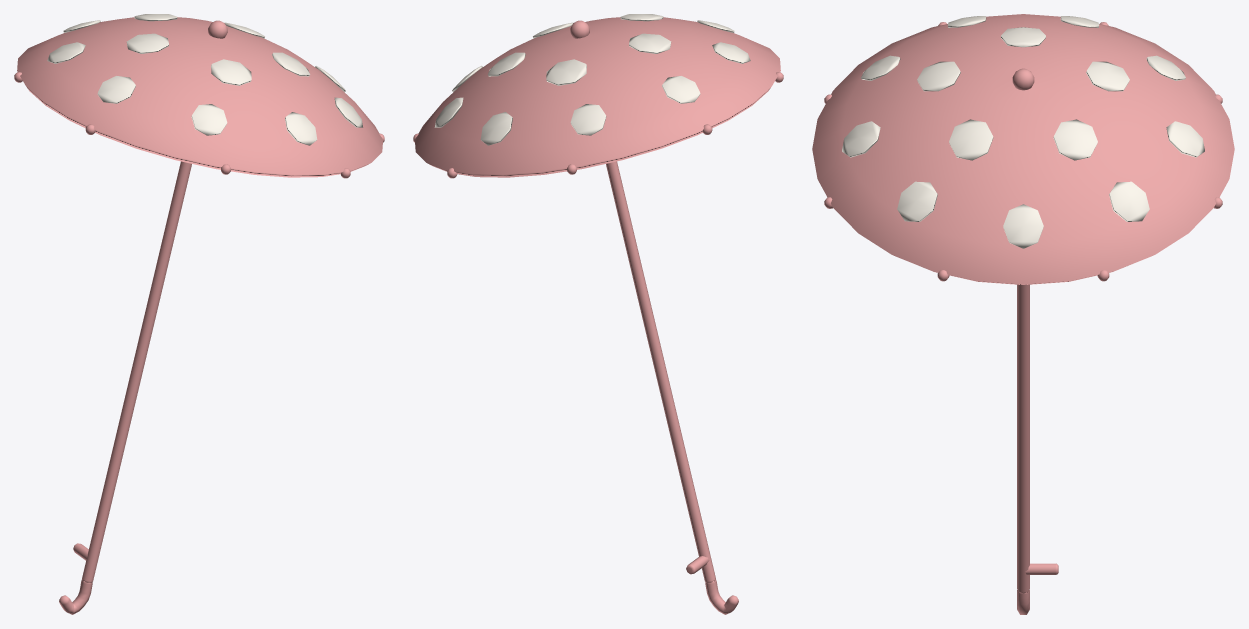
The model's file is mini_flower_print_umbrella.glb.
The picture shows the model from 3 angles, left to right: view 1: azimuth 30°, elevation 25°; view 2: azimuth 150°, elevation 25°; view 3: azimuth 270°, elevation 25°; orthographic projection. The views are drawn at different scales.
Parts seen in each view (by area): view 1: mini_flower_print_umbrella_ArmR; view 2: mini_flower_print_umbrella_ArmR; view 3: mini_flower_print_umbrella_ArmR.
Part boxes in pixels (bbox=[...]): mini_flower_print_umbrella_ArmR: bbox=[14, 14, 384, 614]; mini_flower_print_umbrella_ArmR: bbox=[413, 14, 783, 614]; mini_flower_print_umbrella_ArmR: bbox=[812, 14, 1234, 614].
Size of the model in its own units: 0.8703 by 1.47 by 0.9.
